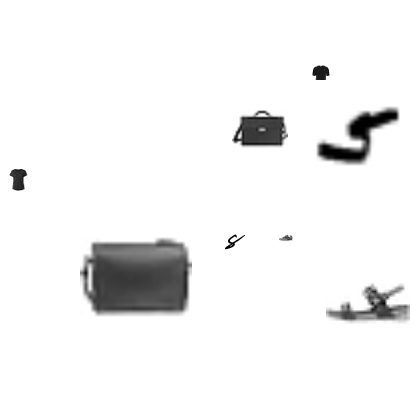5: (302, 80, 414, 192)
8: (218, 228, 246, 256)
Bag: (80, 219, 192, 331), (232, 101, 288, 157)
Sandal: (326, 260, 410, 344)
Sneaker: (279, 231, 293, 245)
T-shirt/top: (310, 65, 332, 87), (7, 169, 29, 191)
